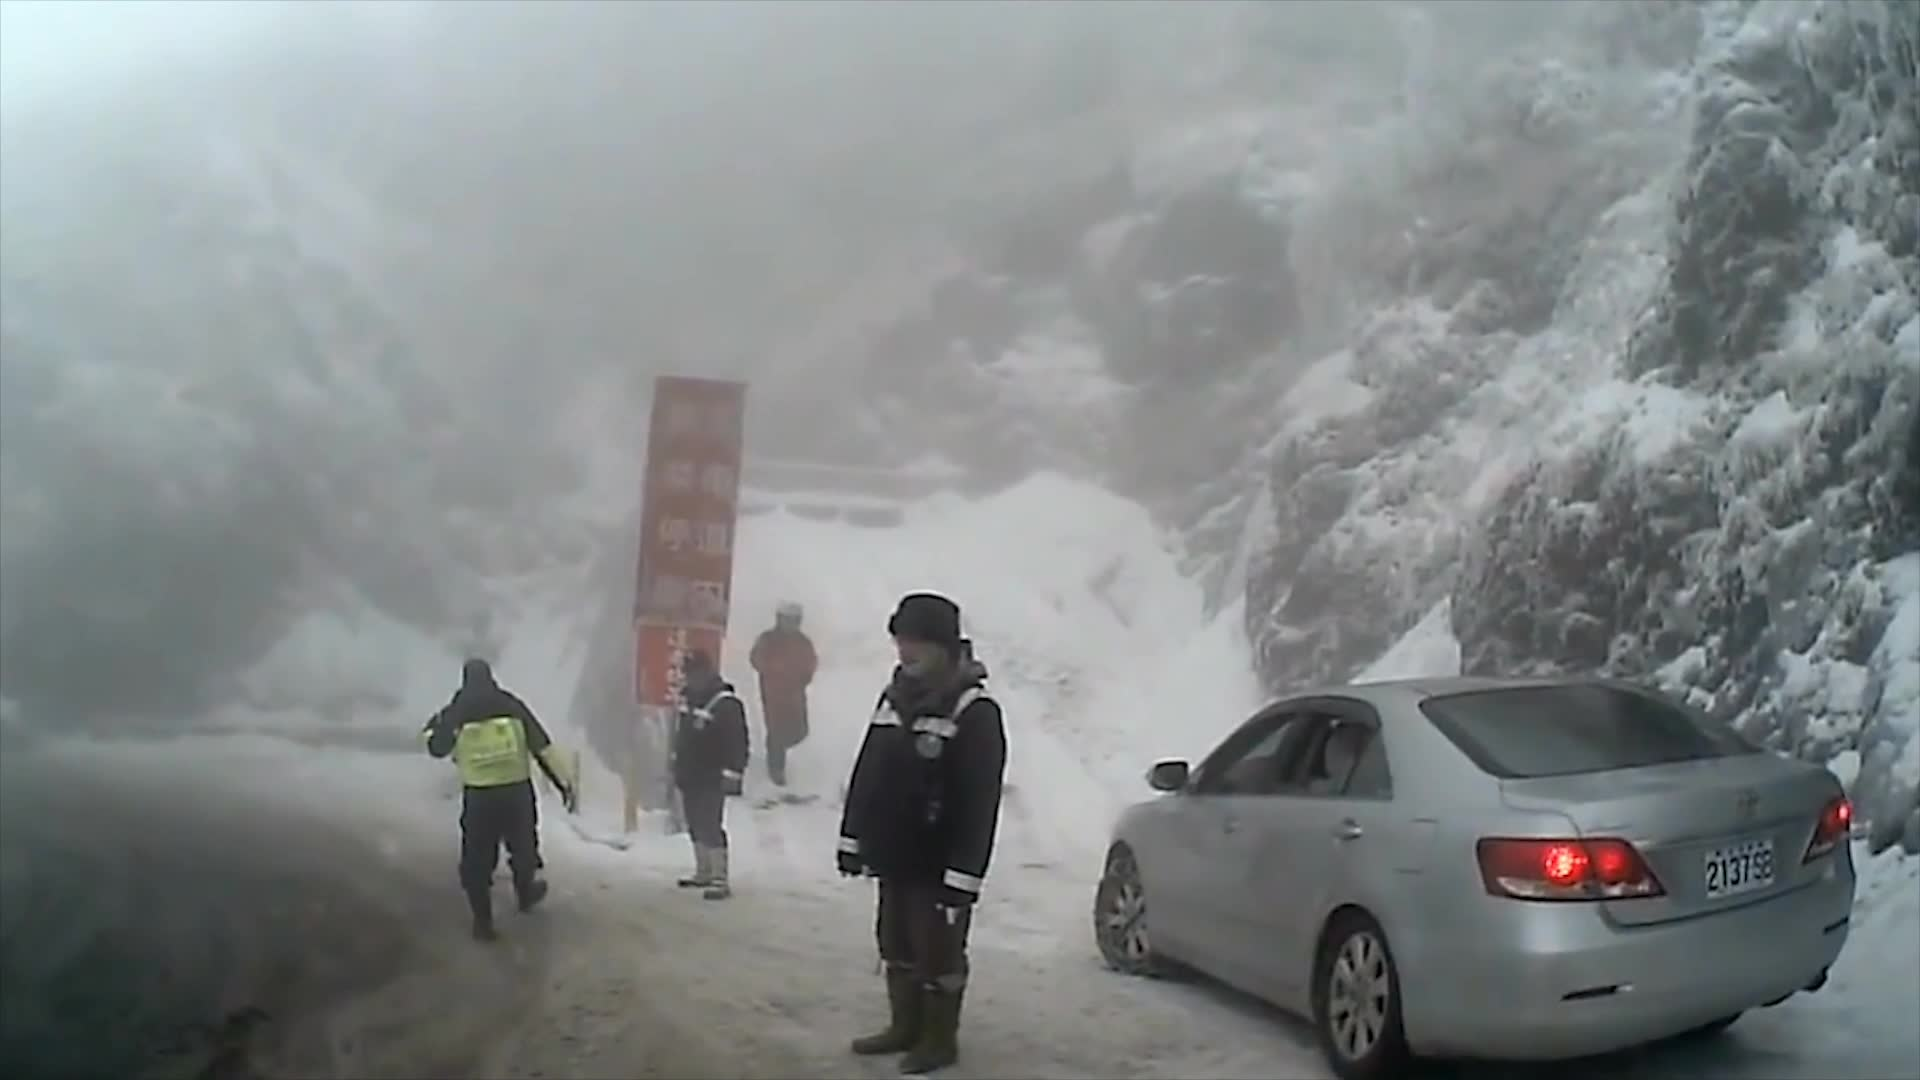pedestrian: (837, 591, 1009, 1077), (423, 660, 590, 943), (671, 651, 753, 902), (755, 598, 821, 784)
vehicle: (1091, 673, 1857, 1073)
